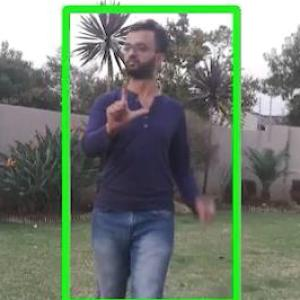land_hand: (99, 72, 151, 134)
